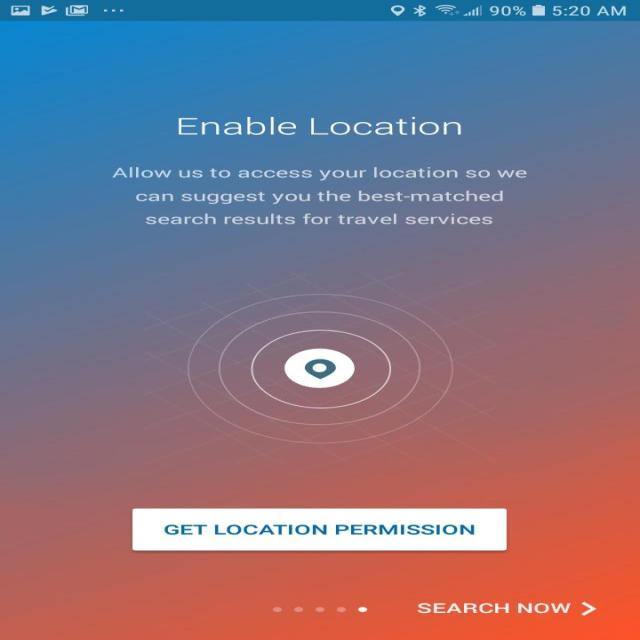Icon: (284, 348, 354, 388), (580, 601, 596, 615)
Text: (111, 167, 526, 224), (178, 116, 462, 136), (417, 602, 571, 613)
TextButton: (132, 508, 506, 550)
